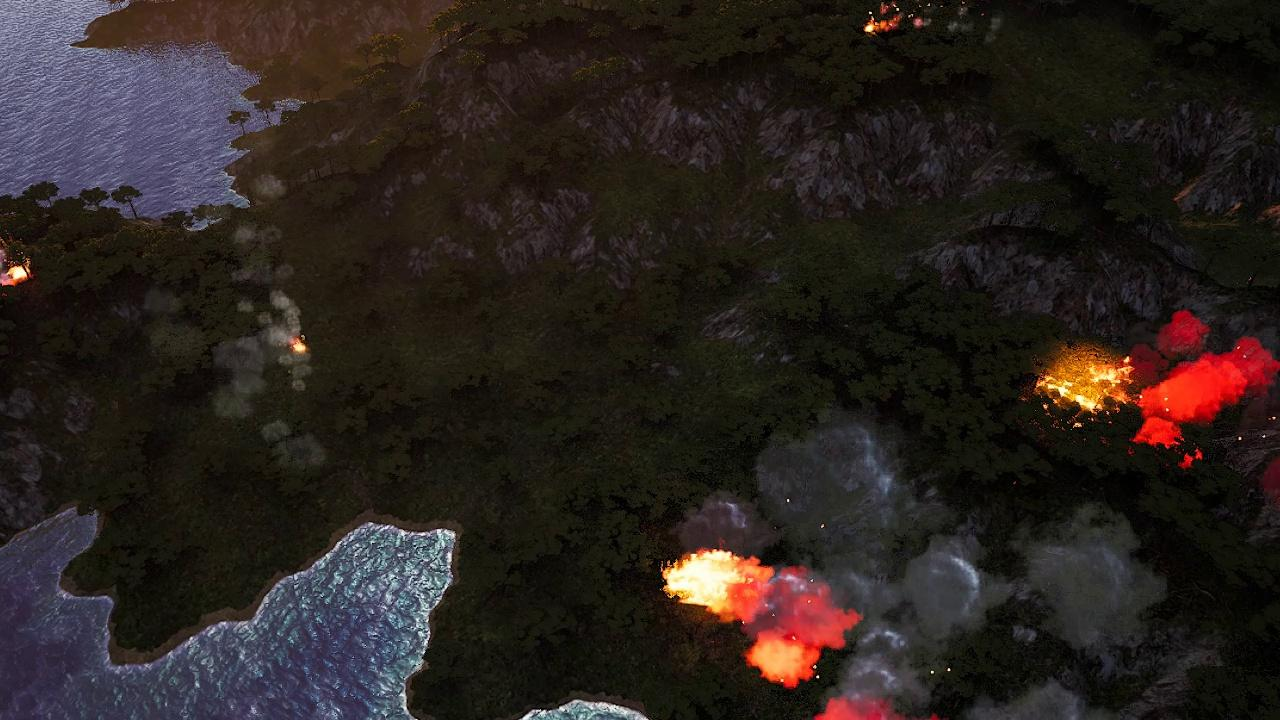fire: (660, 547, 863, 688), (1037, 355, 1131, 415), (867, 4, 905, 38), (3, 263, 30, 287), (290, 339, 307, 355)
smoke: (682, 424, 1174, 718), (155, 170, 329, 476), (1137, 308, 1280, 468), (907, 0, 1003, 45)
